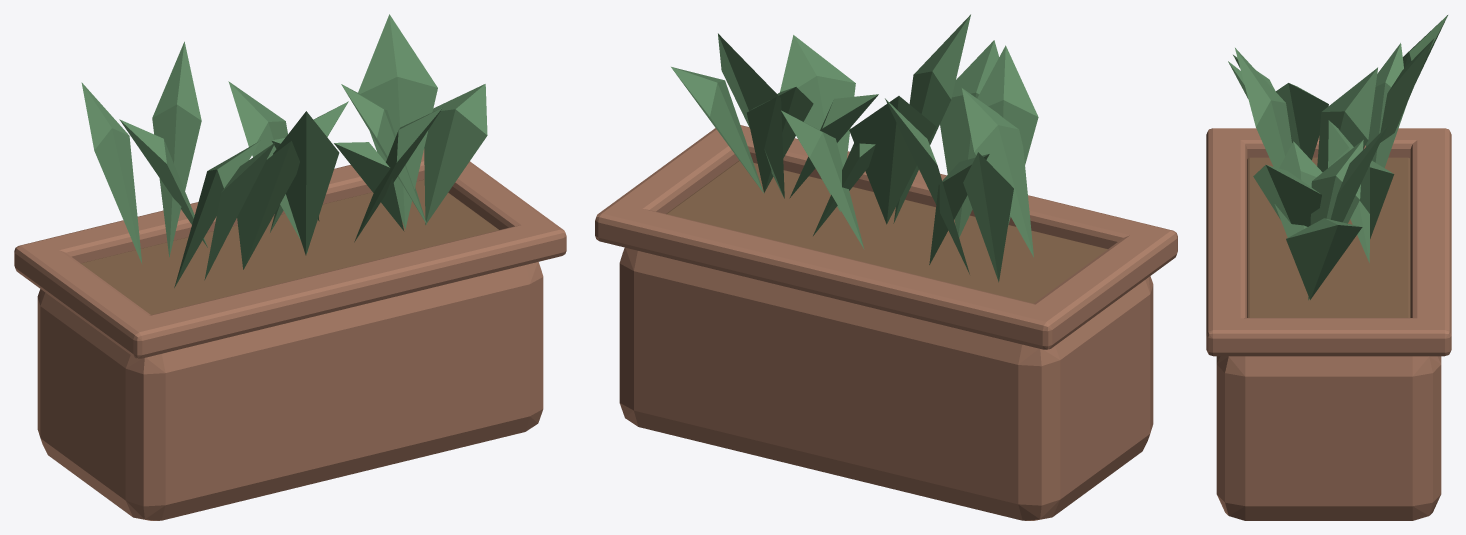
File: SM_Planter.fbx
The picture shows the model from 3 angles, left to right: view 1: azimuth 30°, elevation 25°; view 2: azimuth 150°, elevation 25°; view 3: azimuth 270°, elevation 25°; orthographic projection. The views are drawn at different scales.
Visible parts, largest first — view 1: SM_Planter; view 2: SM_Planter; view 3: SM_Planter.
Boxes of the visible parts, x1=… form: SM_Planter: x1=14, y1=14, x2=566, y2=520; SM_Planter: x1=595, y1=14, x2=1177, y2=520; SM_Planter: x1=1206, y1=15, x2=1451, y2=520.
Size of the model in its own units: 1.2 by 0.6 by 1.
